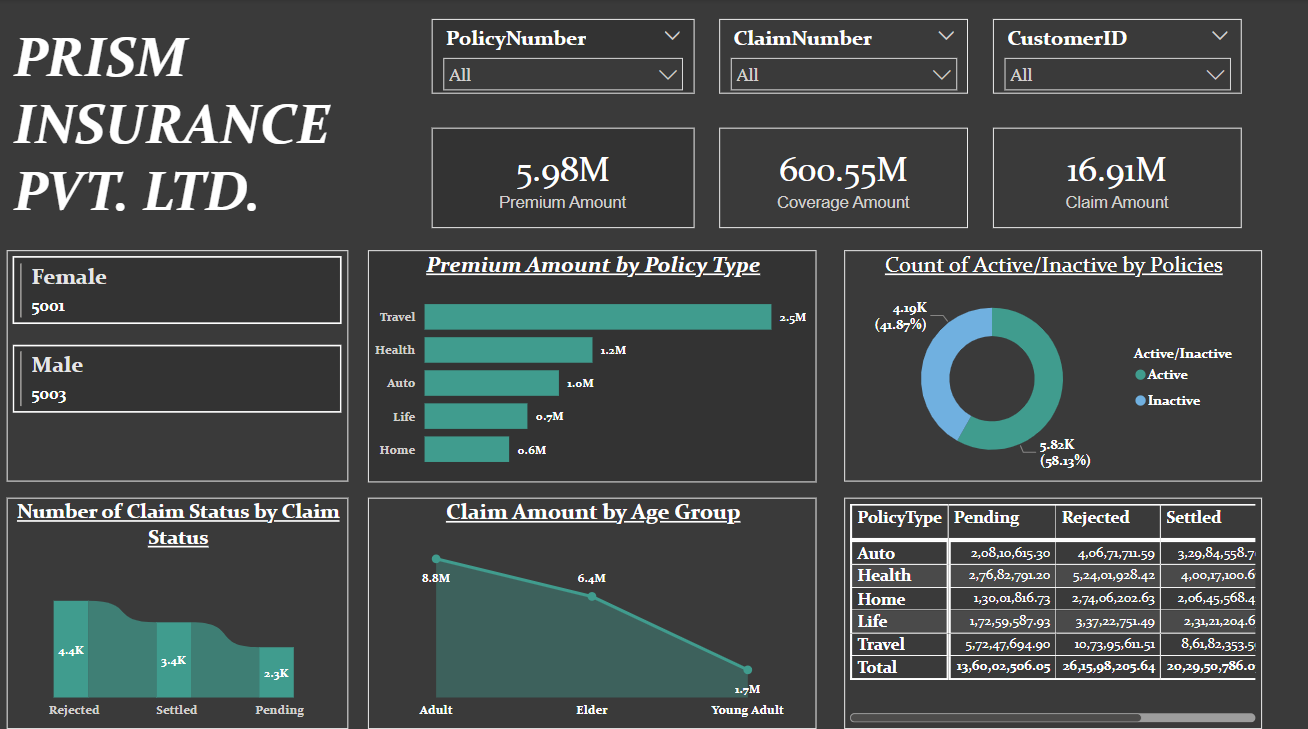

Layout of this report page (visuals, bound fields, positions):
{"tool":"powerbi","page":{"name":"Page 1","canvas":[1280,720],"ordinal":0},"visuals":[{"type":"slicer","fields":{"Values":["InsuranceData.PolicyNumber"]},"box":[423.5,19.3,253.4,72.4],"z":0},{"type":"slicer","fields":{"Values":["InsuranceData.ClaimNumber"]},"box":[700.9,19.3,240.1,72.4],"z":1},{"type":"slicer","fields":{"Values":["InsuranceData.CustomerID"]},"box":[965.2,19.3,240.1,72.4],"z":2},{"type":"textbox","box":[14.5,19.3,380,223.2],"z":3},{"type":"card","fields":{"Values":["Sum(InsuranceData.PremiumAmount)"]},"box":[423.5,124.3,253.4,96.5],"z":4},{"type":"card","fields":{"Values":["Sum(InsuranceData.CoverageAmount)"]},"box":[700.9,124.3,240.1,96.5],"z":5},{"type":"card","fields":{"Values":["Sum(InsuranceData.ClaimAmount)"]},"box":[965.2,124.3,240.1,96.5],"z":6},{"type":"multiRowCard","fields":{"Values":["InsuranceData.Gender","CountNonNull(InsuranceData.Gender)"]},"box":[13.3,242.5,329.4,223.2],"z":7},{"type":"ribbonChart","title":"Number of Claim Status by Claim Status","fields":{"Category":["InsuranceData.ClaimStatus"],"Y":["CountNonNull(InsuranceData.ClaimStatus)"]},"box":[13.3,481.4,329.4,223.2],"z":8},{"type":"barChart","title":"Premium Amount by Policy Type","fields":{"Category":["InsuranceData.PolicyType"],"Y":["Sum(InsuranceData.PremiumAmount)"]},"box":[361.9,242.5,433.1,224.4],"z":9},{"type":"lineChart","title":"Claim Amount by Age Group","fields":{"Category":["InsuranceData.Age Group"],"Y":["Sum(InsuranceData.ClaimAmount)"]},"box":[361.9,481.4,433.1,223.2],"z":10},{"type":"donutChart","title":"Count of Active/Inactive by Policies","fields":{"Category":["InsuranceData.Active/Inactive"],"Y":["CountNonNull(InsuranceData.Active/Inactive)"]},"box":[821.6,242.5,403,223.2],"z":11},{"type":"pivotTable","fields":{"Values":["Sum(InsuranceData.CoverageAmount)"],"Rows":["InsuranceData.PolicyType"],"Columns":["InsuranceData.ClaimStatus"]},"box":[822,481,403,223],"z":12}]}

Visuals, with their boxes in screenshot pixels (x1, y1, x2, y2), scaled from the page's 1280x720 canvas onto the 1308x729 screenshot:
slicer - InsuranceData.PolicyNumber: Rect(433, 20, 692, 93)
slicer - InsuranceData.ClaimNumber: Rect(716, 20, 962, 93)
slicer - InsuranceData.CustomerID: Rect(986, 20, 1232, 93)
textbox: Rect(15, 20, 403, 246)
card - Sum(InsuranceData.PremiumAmount): Rect(433, 126, 692, 224)
card - Sum(InsuranceData.CoverageAmount): Rect(716, 126, 962, 224)
card - Sum(InsuranceData.ClaimAmount): Rect(986, 126, 1232, 224)
multiRowCard - InsuranceData.Gender x CountNonNull(InsuranceData.Gender): Rect(14, 246, 350, 472)
"Number of Claim Status by Claim Status" ribbonChart: Rect(14, 487, 350, 713)
"Premium Amount by Policy Type" barChart: Rect(370, 246, 812, 473)
"Claim Amount by Age Group" lineChart: Rect(370, 487, 812, 713)
"Count of Active/Inactive by Policies" donutChart: Rect(840, 246, 1251, 472)
pivotTable - Sum(InsuranceData.CoverageAmount) x InsuranceData.PolicyType: Rect(840, 487, 1252, 713)
